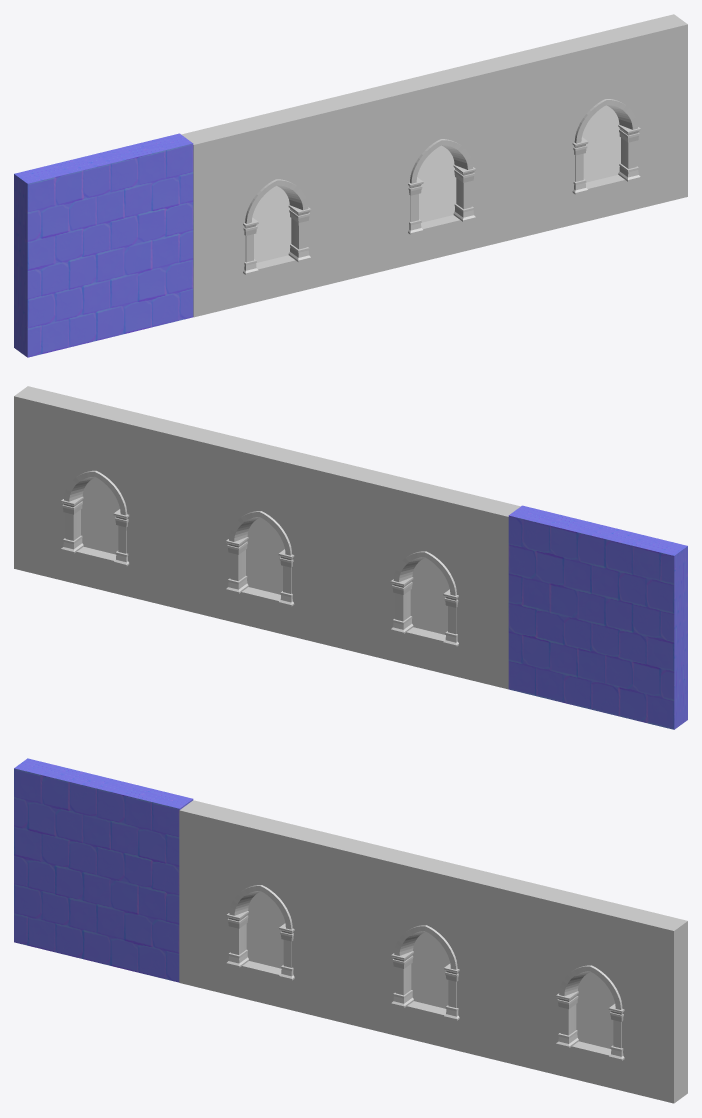
File: GameObject - Copy.fbx
3 views of the same model, one above another, from view 1: azimuth 30°, elevation 25°; view 2: azimuth 150°, elevation 25°; view 3: azimuth 330°, elevation 25° (orthographic).
Visible parts, largest first — view 1: GameObject; view 2: GameObject; view 3: GameObject.
Boxes of the visible parts, x1,y1,x2,y2 form: GameObject: (14, 14, 687, 357); GameObject: (14, 386, 687, 729); GameObject: (14, 758, 687, 1103).
Bounding box in the file's own units: 2789 × 702 × 140.
